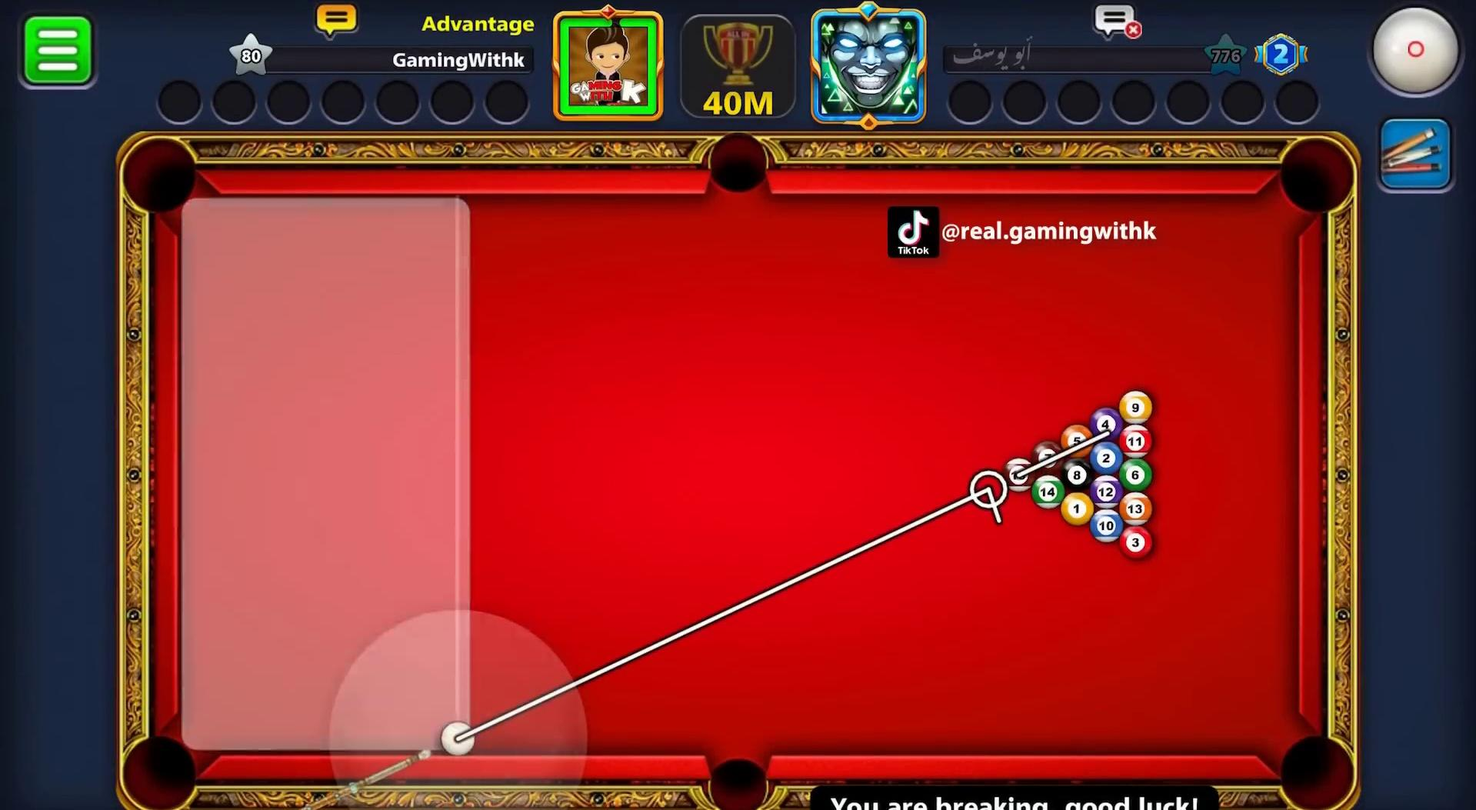Ball: (1031, 441, 1068, 479), (1029, 477, 1065, 514), (999, 457, 1037, 492), (1089, 508, 1124, 544), (1061, 491, 1095, 527), (1119, 423, 1152, 457), (1120, 457, 1152, 492), (1120, 492, 1152, 527), (1089, 442, 1122, 475), (1119, 390, 1152, 422), (1090, 407, 1122, 439), (1121, 526, 1152, 558), (1063, 458, 1092, 492), (1094, 475, 1120, 509), (1061, 424, 1092, 452)
Guideline: (452, 480, 1006, 743), (1015, 428, 1113, 481), (969, 469, 1010, 510)
Hole: (1264, 719, 1378, 810), (693, 741, 779, 810), (1277, 139, 1353, 215), (121, 137, 198, 211), (123, 734, 200, 807), (708, 133, 768, 193)
Play_Area: (178, 193, 1301, 756)
Spin: (1367, 0, 1476, 108)
White: (435, 718, 480, 762)
